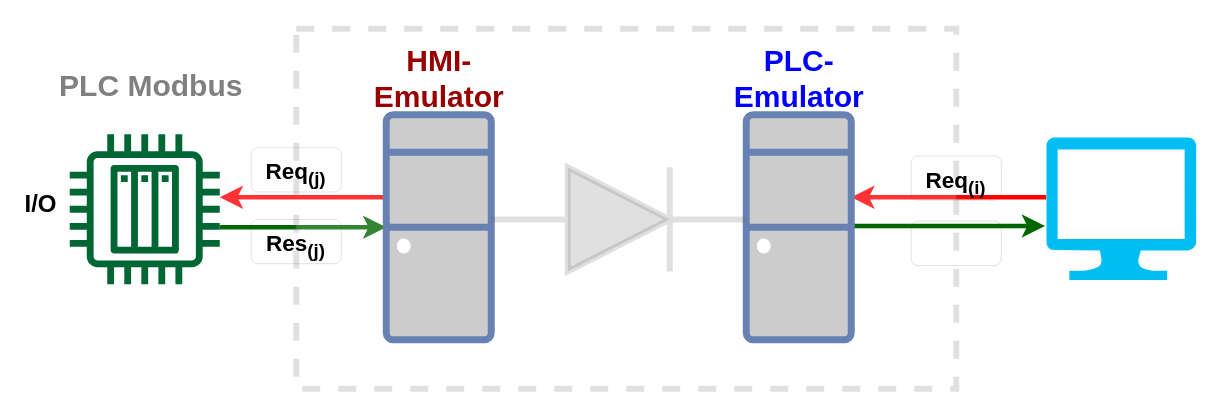
Image size: 1223x417. Some labels were removed from this diagram. The shapes that lost their labels are listed below. From the top down, each one's box as (x1, y1, x2, y2) in pixels, then its label:
(1046, 136, 1196, 279): HMI
(910, 220, 1000, 265): Res (i)
